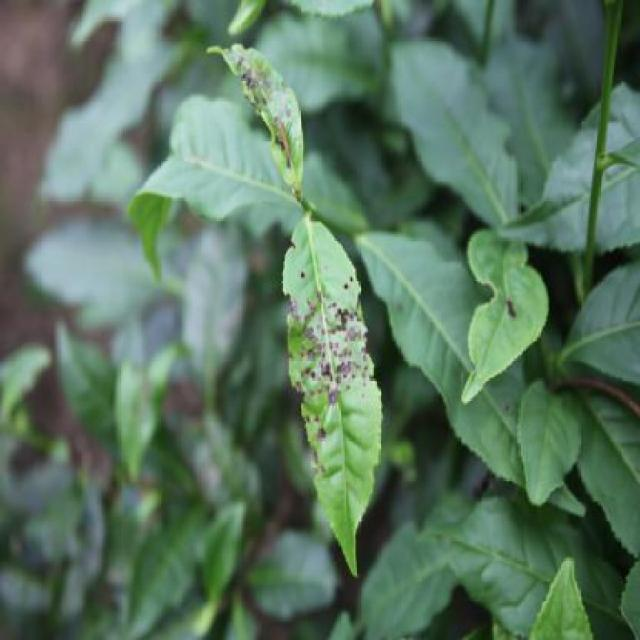Tea Mosquito bug infested leaf: (282, 222, 384, 569), (211, 46, 312, 189)
